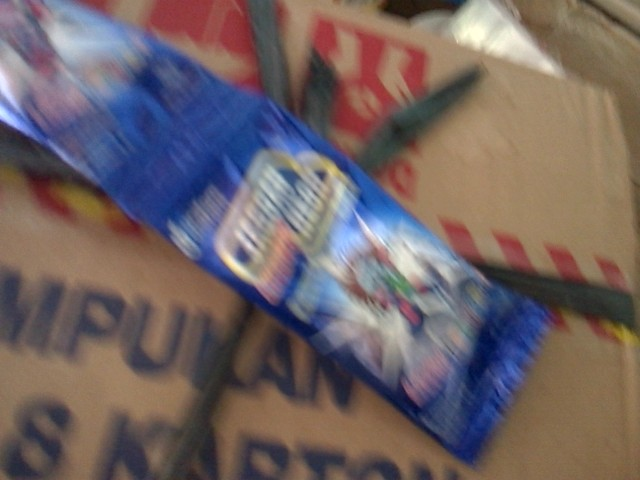jagoan neon: (141, 94, 550, 464)
